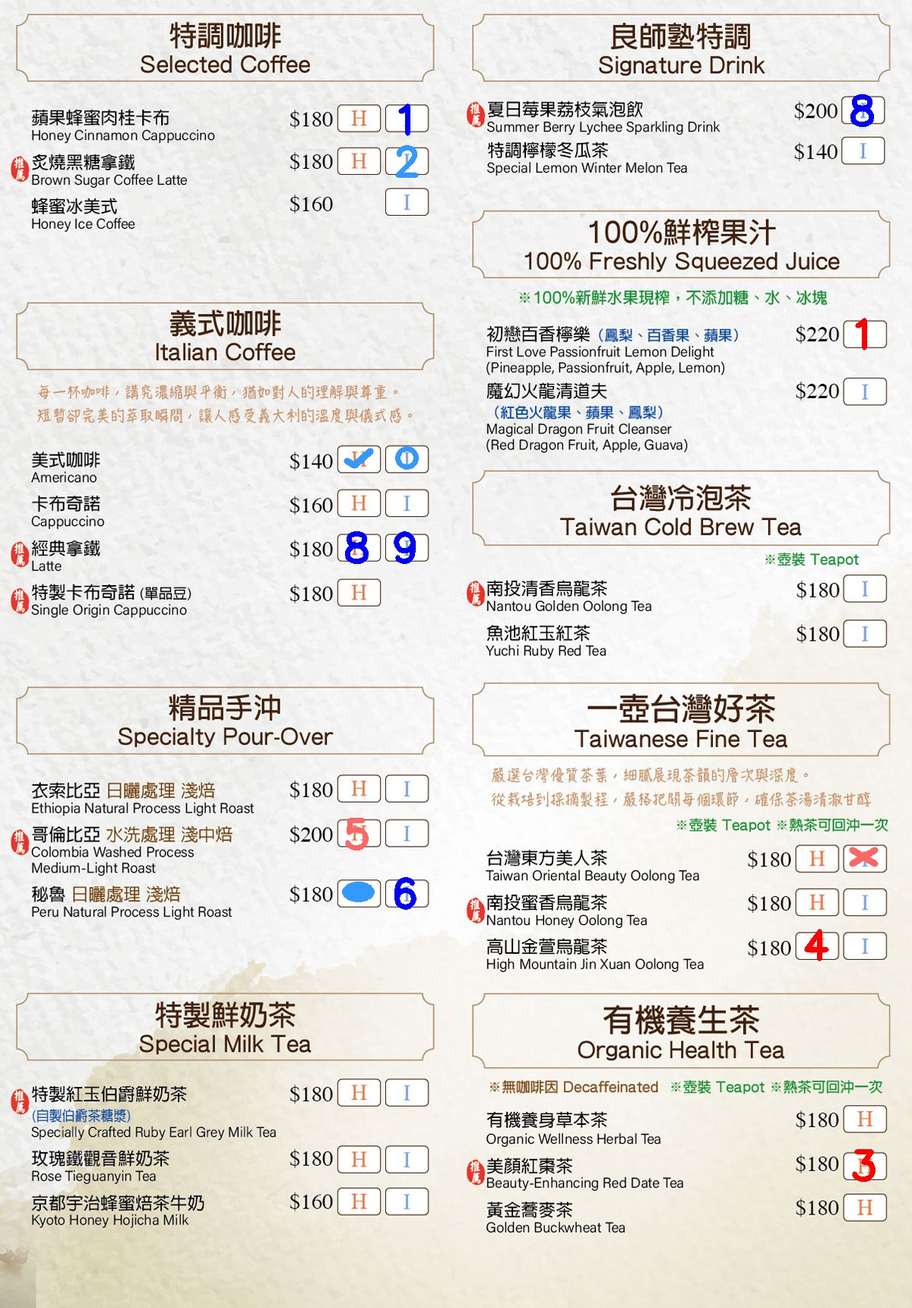marked_circle: (338, 879, 377, 903)
marked_hollow: (388, 446, 426, 470)
marked_number_1: (845, 321, 884, 345), (388, 107, 427, 131)
marked_number_2: (389, 149, 428, 173)
marked_number_3: (846, 1153, 885, 1177)
marked_number_4: (798, 933, 837, 956)
marked_number_5: (339, 822, 378, 845)
marked_number_6: (387, 881, 426, 904)
marked_number_8: (339, 535, 378, 559), (844, 98, 883, 122)
marked_number_9: (388, 535, 426, 559)
marked_tick: (340, 447, 378, 470)
marked_x: (844, 845, 883, 869)
